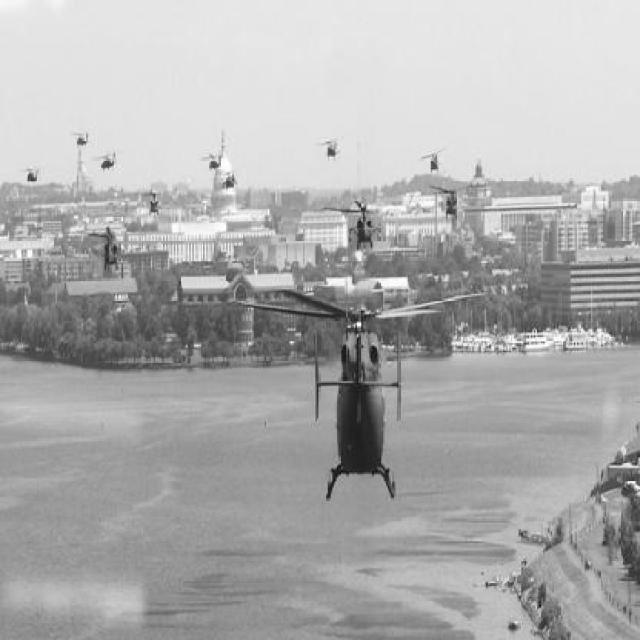helikopter: (245, 272, 478, 518), (331, 190, 384, 262), (425, 176, 467, 233), (94, 228, 123, 280), (419, 139, 444, 181), (95, 142, 118, 185), (322, 133, 342, 167), (23, 158, 42, 192), (204, 146, 222, 180), (222, 168, 238, 206), (73, 126, 92, 156), (146, 186, 160, 220)
